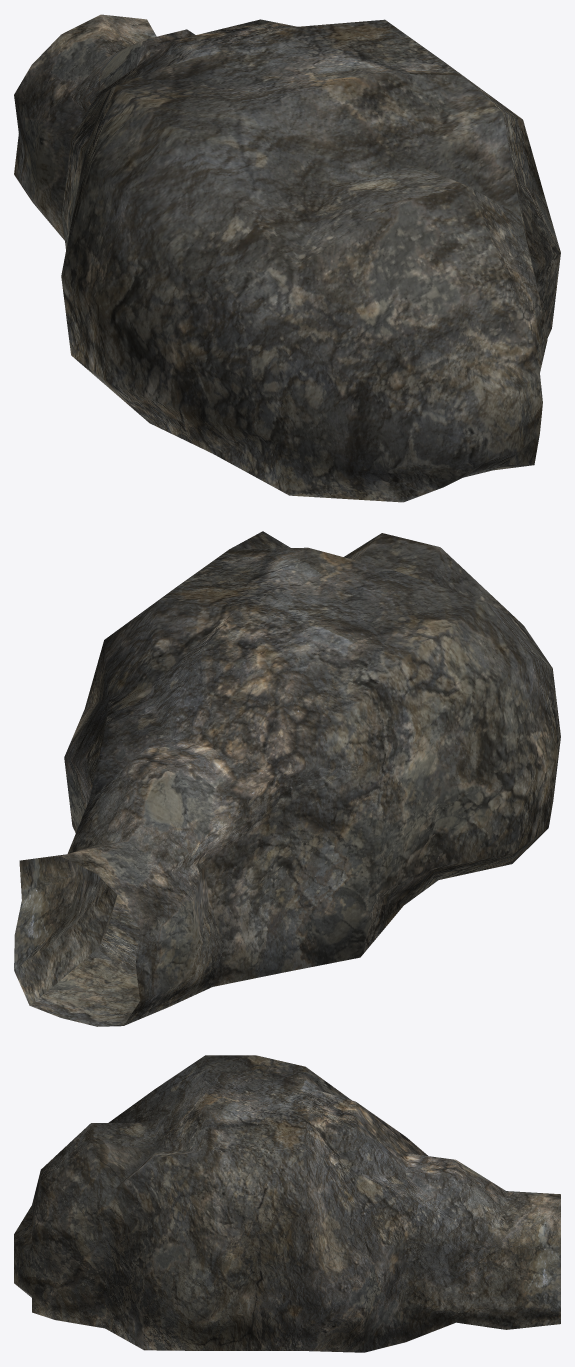
File: cave_piece_13.glb
3 renders of one model, top to bottom at view 1: azimuth 30°, elevation 25°; view 2: azimuth 150°, elevation 25°; view 3: azimuth 270°, elevation 25°, orthographic. The views are drawn at different scales.
Visible parts, largest first — view 1: mine_13_mine_0; view 2: mine_13_mine_0; view 3: mine_13_mine_0.
Part boxes in pixels (bbox=[...]): mine_13_mine_0: bbox=[14, 14, 560, 502]; mine_13_mine_0: bbox=[14, 531, 560, 1026]; mine_13_mine_0: bbox=[14, 1055, 560, 1352].
Size of the model in its own units: 11.32 by 8.44 by 18.53.
1 material, 1 textured.
